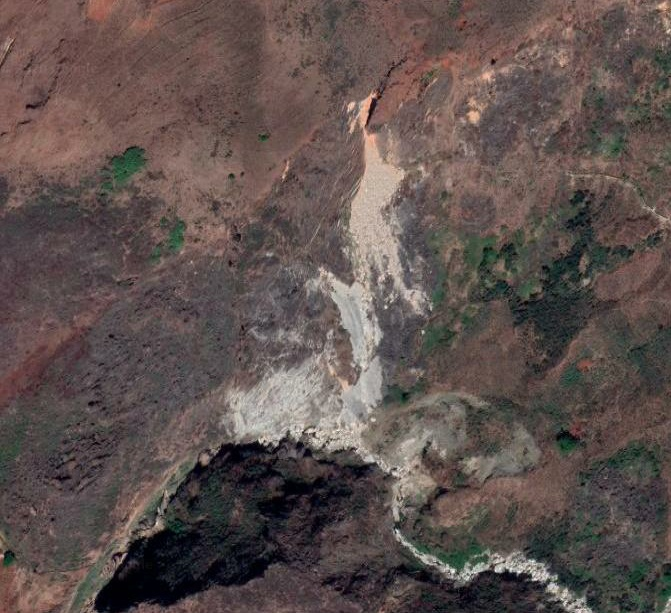slope: (228, 55, 598, 612)
